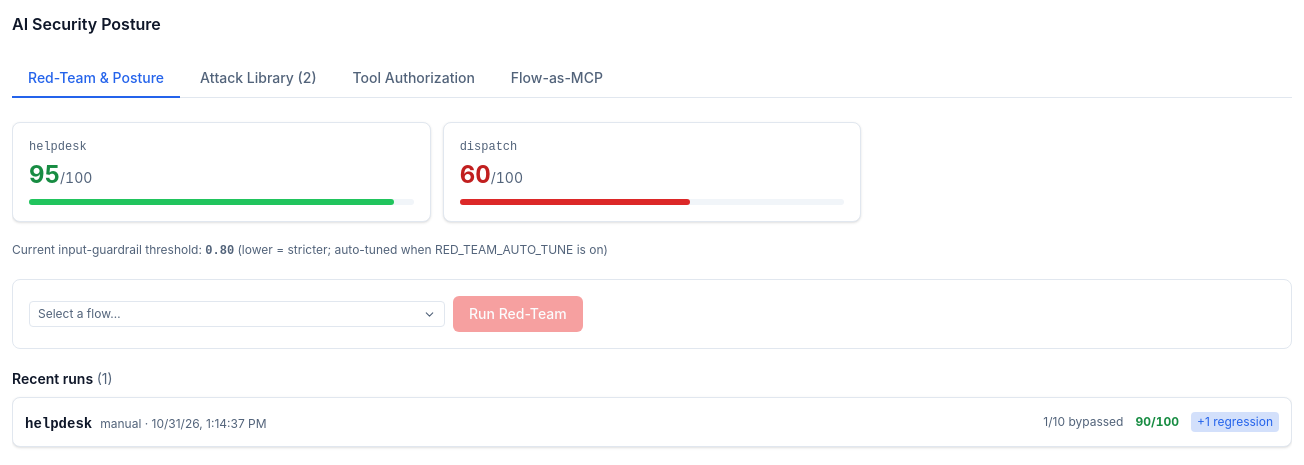
SecurityPanel — flow-as-MCP › shows the MCP endpoint and exposed flow tools
Click the button "Flow-as-MCP".
click(557, 79)  # box x1=495 y1=60 x2=619 y2=98
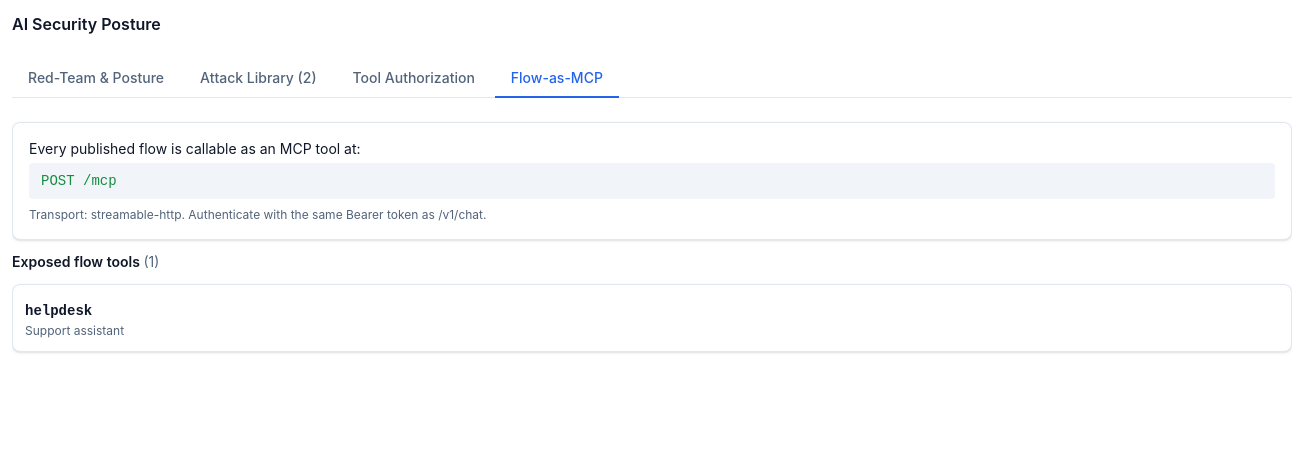
Expected: the text "POST /mcp" is shown, x1=29 y1=163 x2=1275 y2=199
Expected: the text "Support assistant" is shown, x1=25 y1=323 x2=124 y2=338
